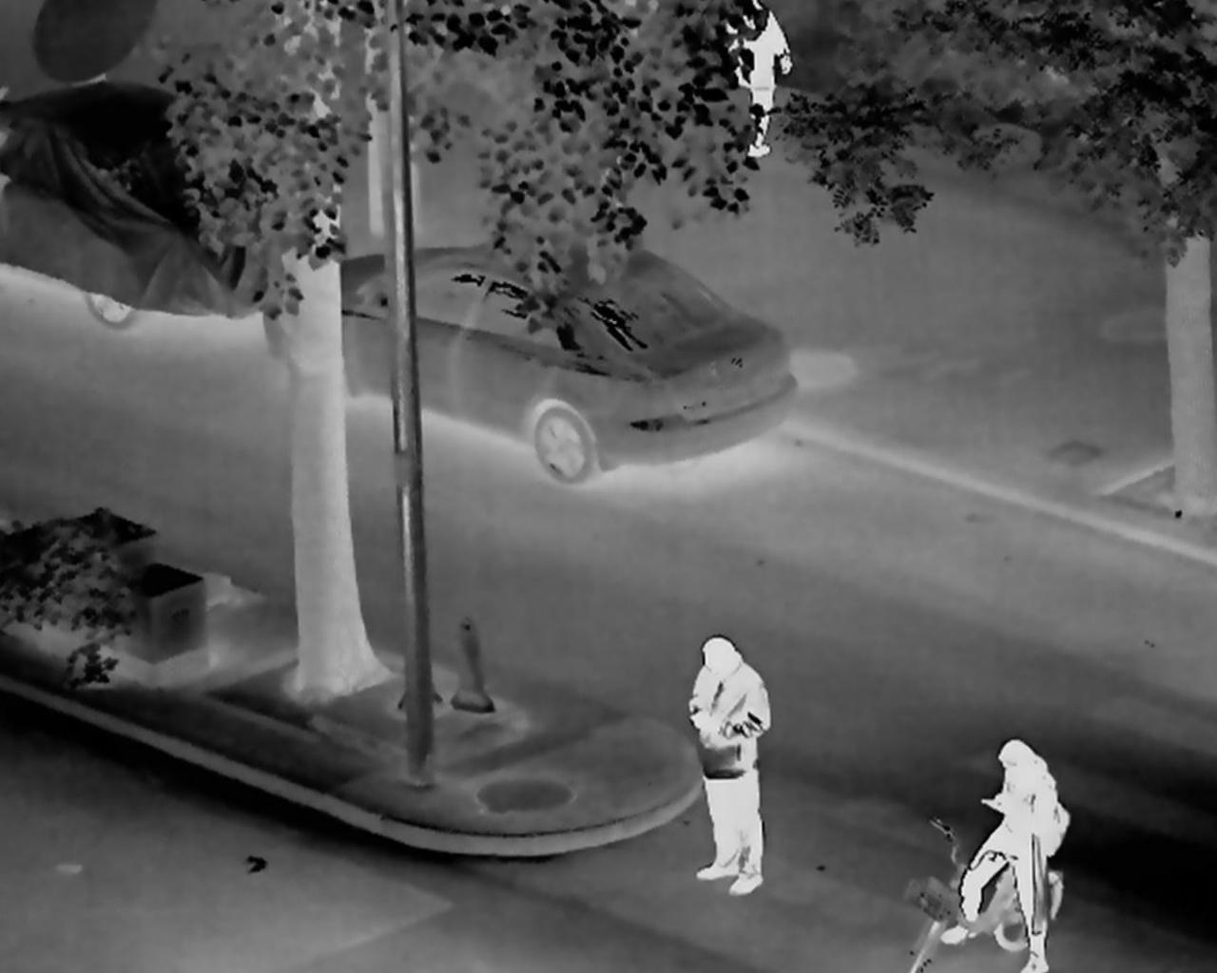person: (947, 737, 1071, 973), (686, 635, 774, 894)
